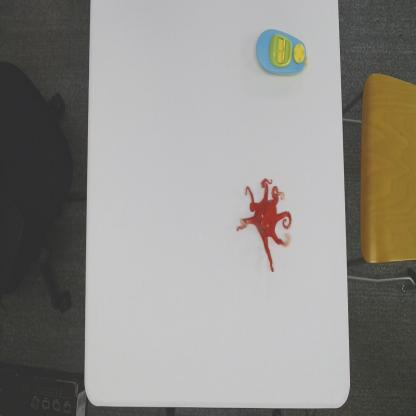Boat: (256, 26, 310, 80)
Octopus: (236, 176, 292, 274)
